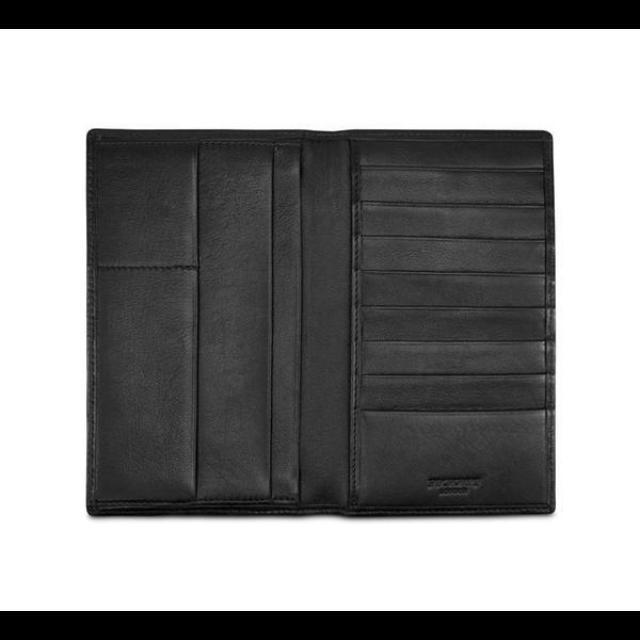wallet: (79, 118, 557, 520)
